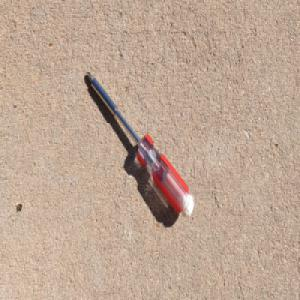Screwdriver: (85, 70, 194, 218)
